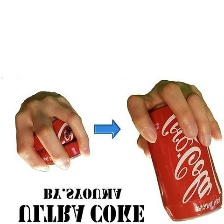can: (141, 101, 224, 223), (24, 109, 89, 170)
